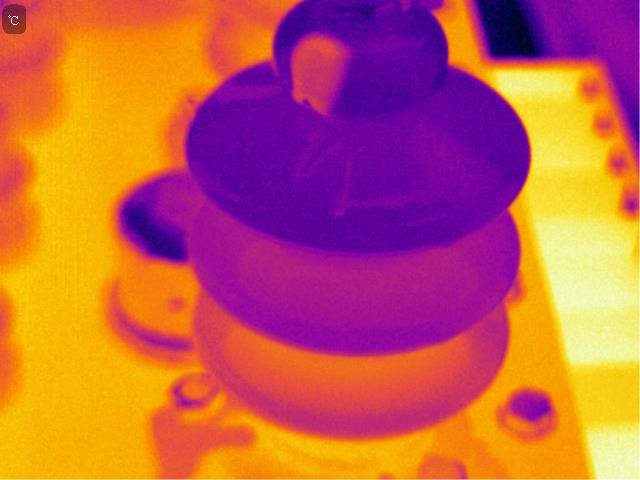Oil: (373, 123, 523, 226), (285, 27, 356, 123), (291, 131, 361, 220), (214, 46, 281, 106)
